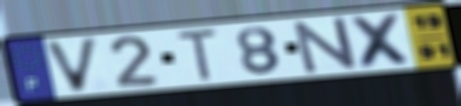2: (107, 34, 163, 89)
8: (235, 26, 284, 76)
N: (291, 15, 361, 76)
T: (173, 27, 221, 84)
V: (41, 35, 101, 95)
X: (346, 12, 419, 70)
